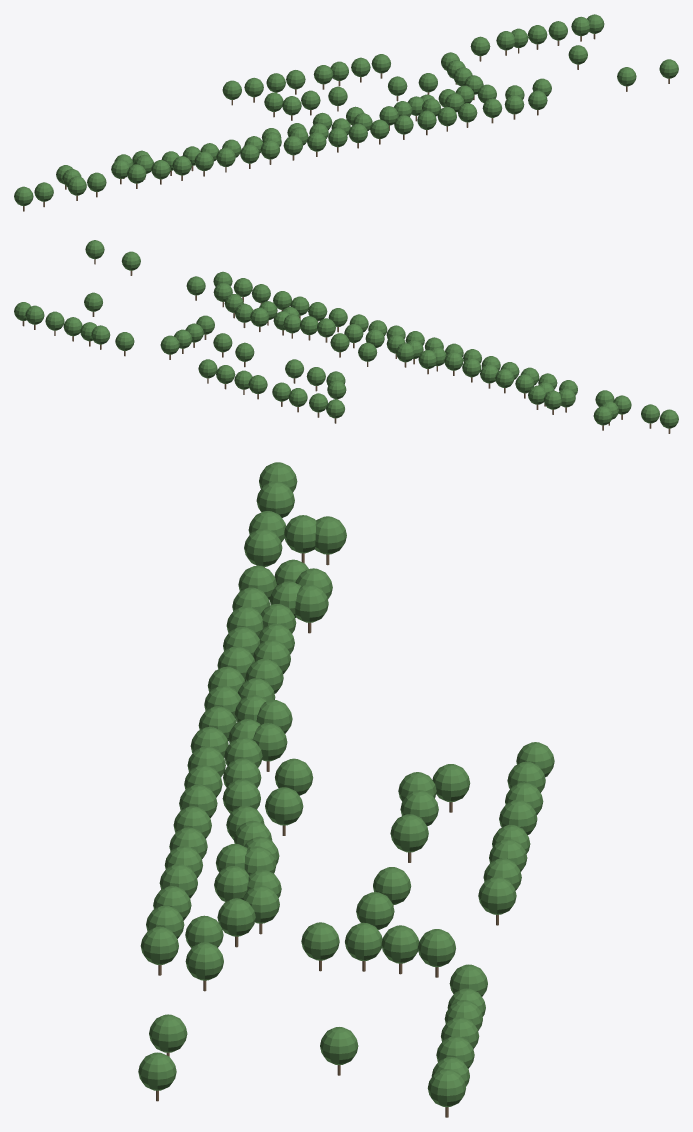
File: trees-662-12978-d4f08d468acf.glb
3 views of the same model, one above another, from view 1: azimuth 30°, elevation 25°; view 2: azimuth 150°, elevation 25°; view 3: azimuth 270°, elevation 25° (orthographic). The views are drawn at different scales.
Size of the model in its own units: 447 by 22.7 by 130.
